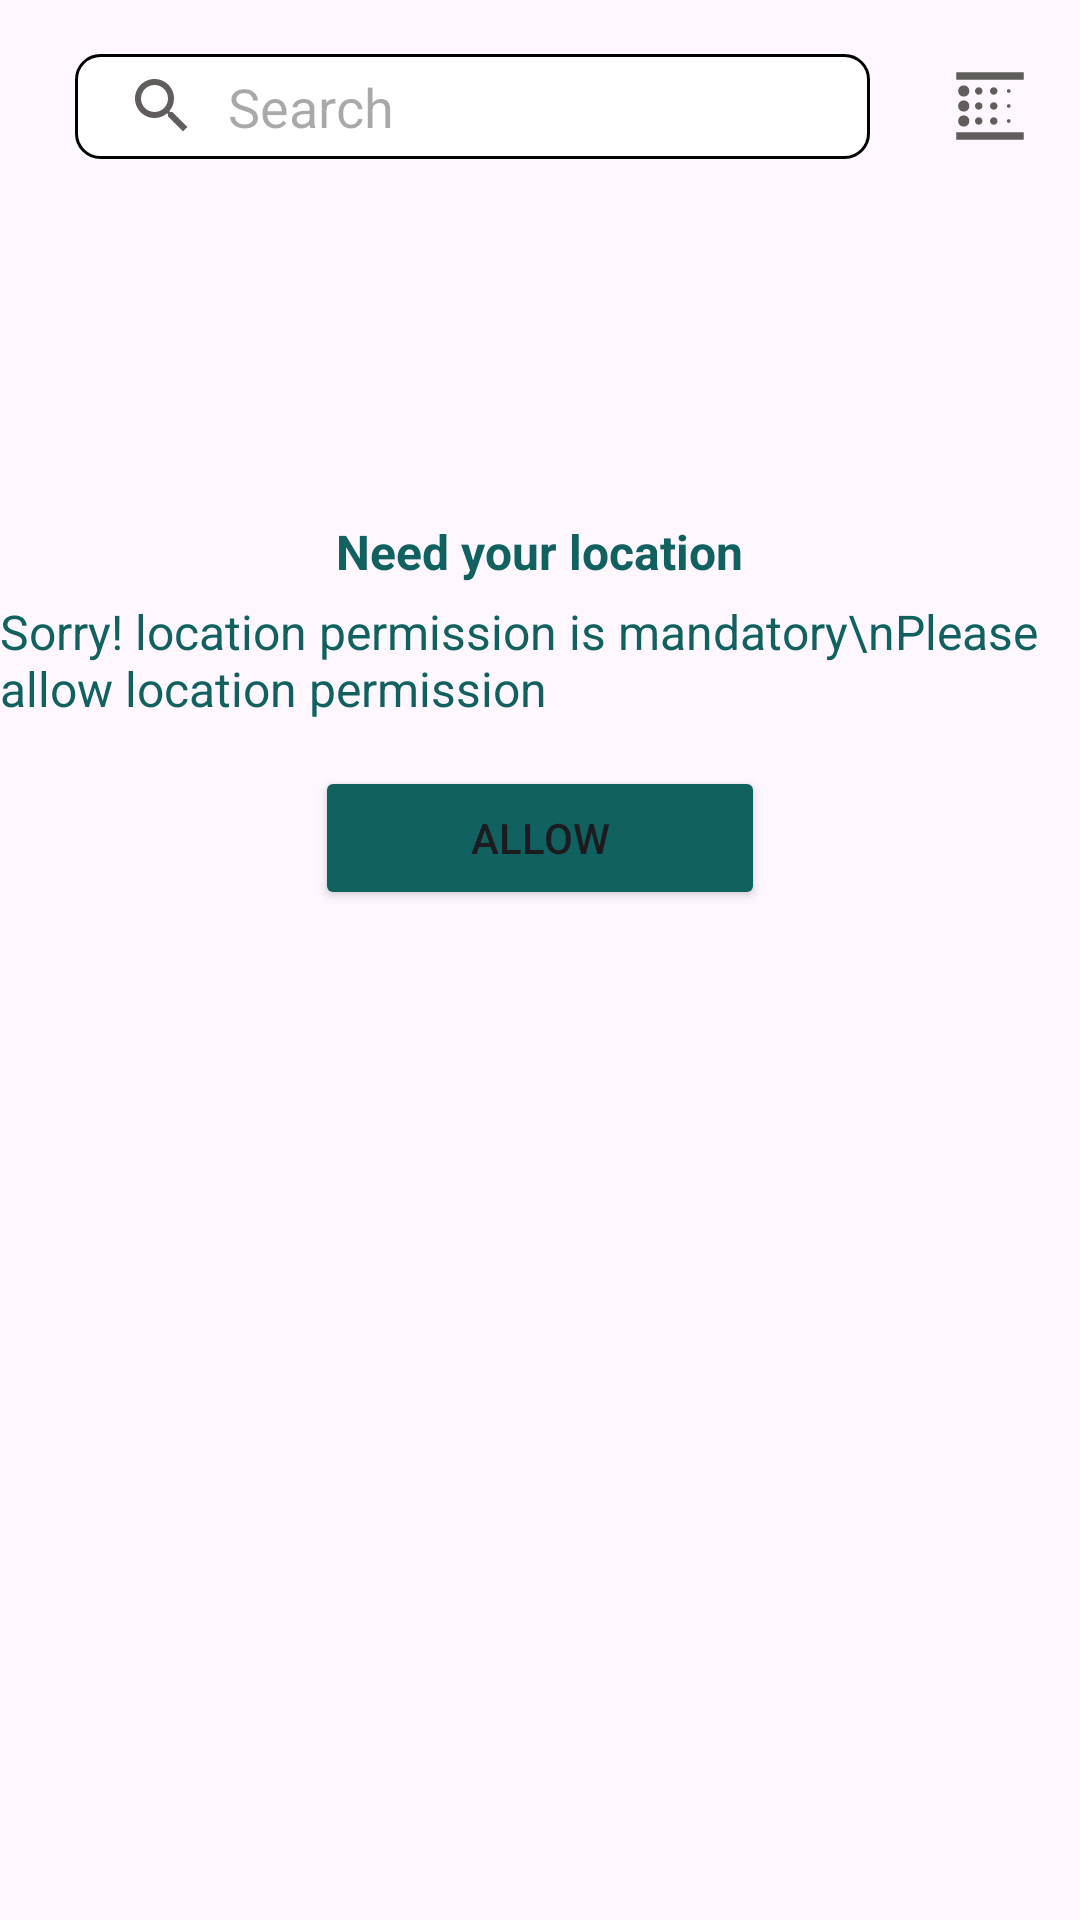

Where icons sit on this 1080px×1920px app screen, as detection(x1, y1, x2, y2):
filter: detection(956, 72, 1024, 140)
